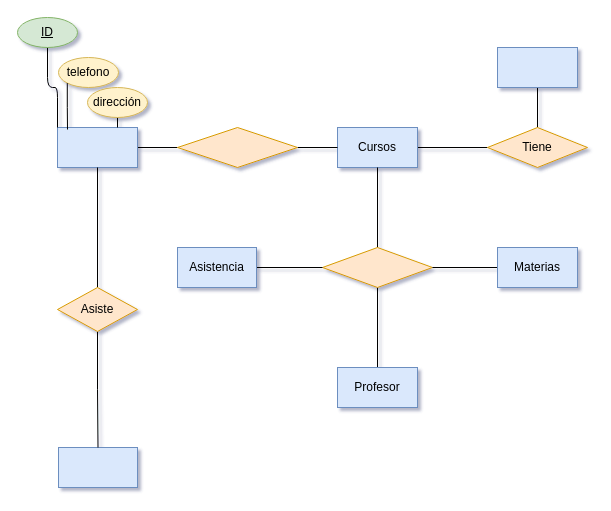
Image size: 611x511. Some labels were removed from this diagram. Each missing label, with the centre of its shape:
"Alumno" goes at point (97, 147).
"Extracurricular" goes at point (98, 467).
"Horario" goes at point (537, 67).
"Imparte" goes at point (377, 267).
"Matriculado" goes at point (237, 147).
